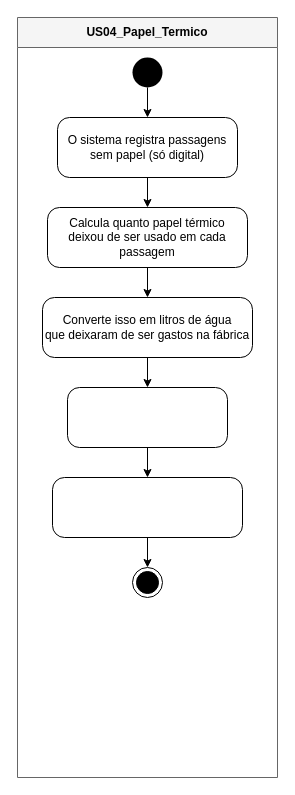
The diagram is 295 pixels wide and 795 high, and some of its shapes have lost their labels. The shapes that lost their labels are listed below. From the top down, each one's centre as x and y in pixels, then its label:
[147,417]: Soma o total de "árvores preservadas"
[147,507]: Mostra na tela os litros de água e as árvores no total
